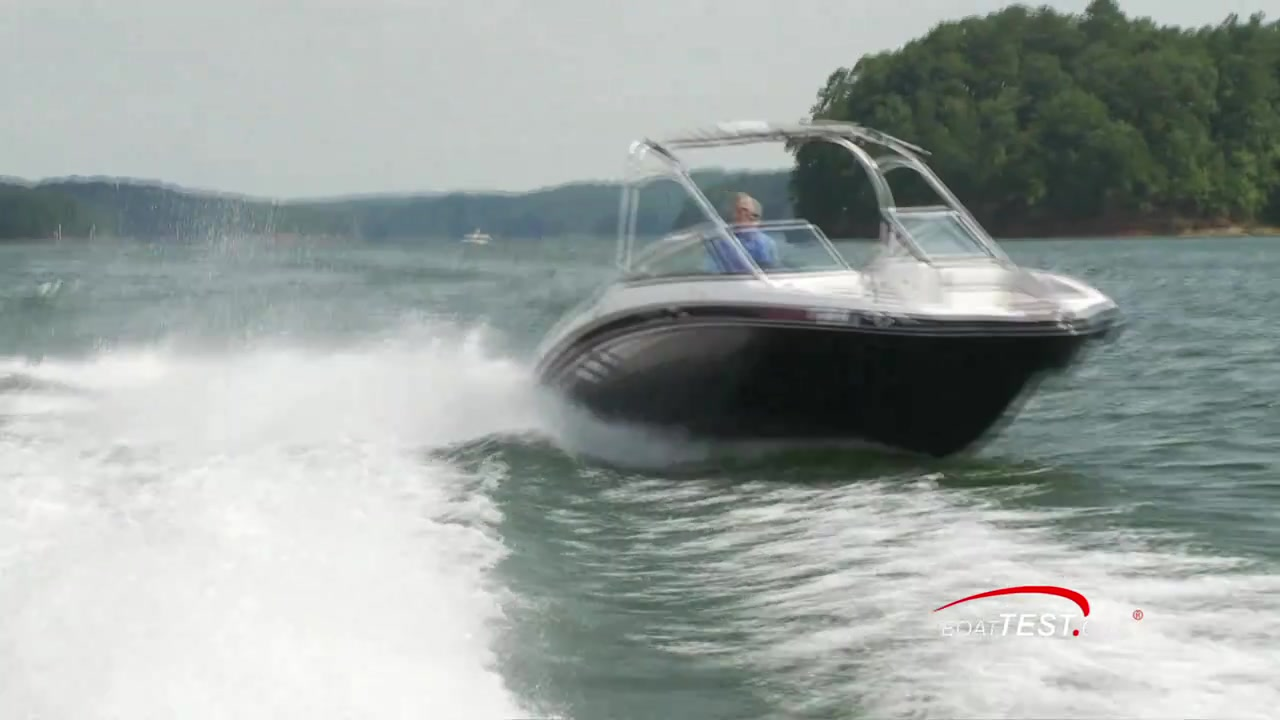boat: (531, 119, 1127, 461)
